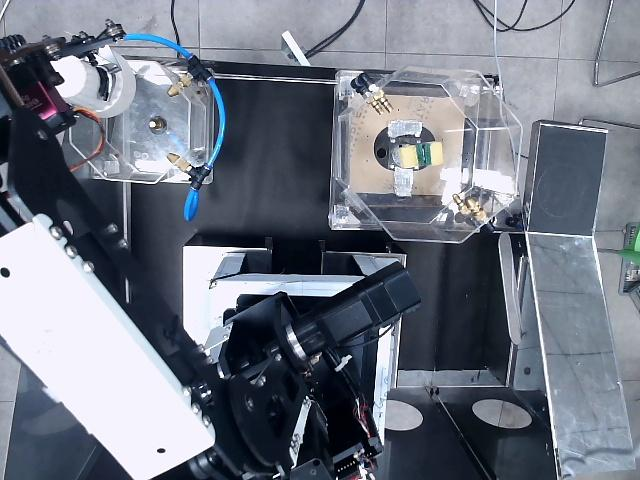cup: (52, 46, 135, 117)
